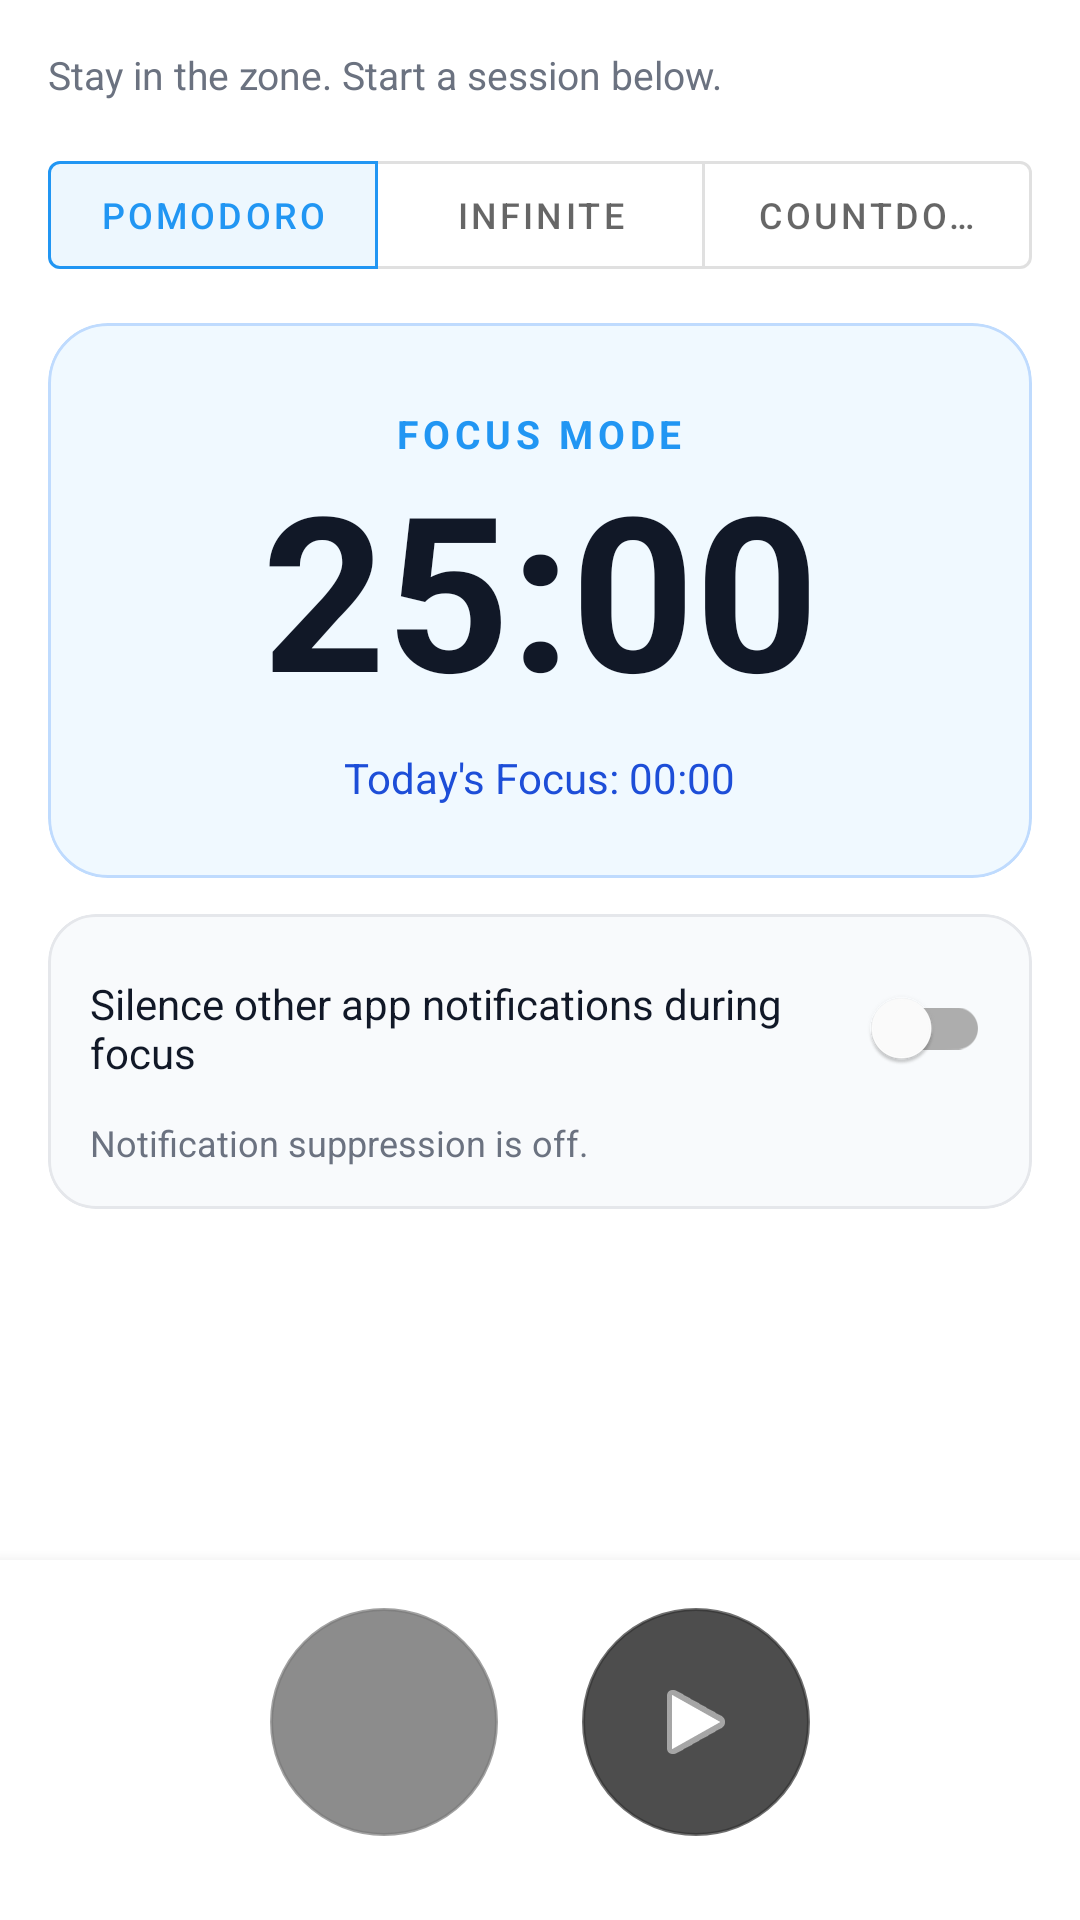

Named icons in this screenshot (1080x1920) and their centers, (x=x, y=y):
Start or pause focus timer: (x=696, y=1722)
